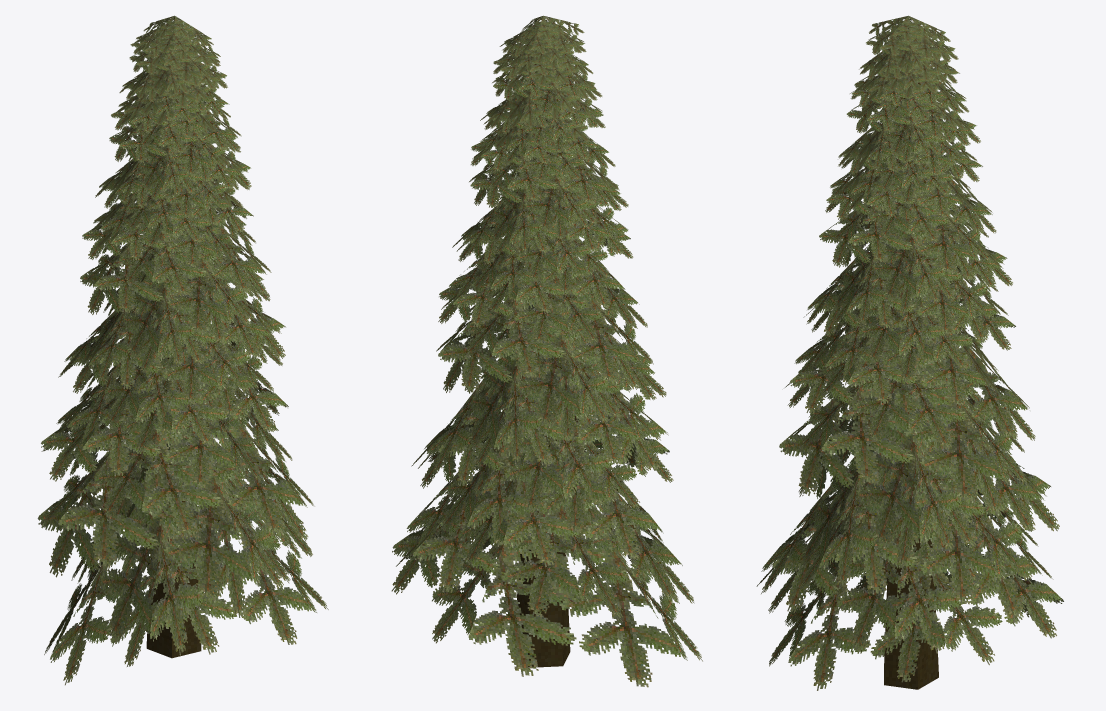
File: pine_tree.glb
The picture shows the model from 3 angles, left to right: view 1: azimuth 30°, elevation 25°; view 2: azimuth 150°, elevation 25°; view 3: azimuth 270°, elevation 25°; orthographic projection. The views are drawn at different scales.
Visible parts, largest first — view 1: pine_tree; view 2: pine_tree; view 3: pine_tree.
Boxes of the visible parts, x1,y1,x2,y2 form: pine_tree: (37,15,328,685); pine_tree: (391,15,702,687); pine_tree: (756,15,1063,690).
Size of the model in its own units: 6.1 by 12.14 by 5.81.
2 materials, 2 textured.
